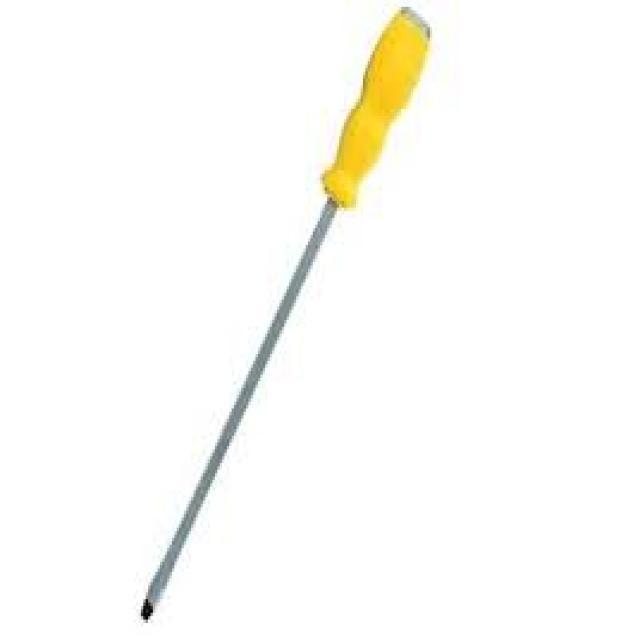screwdriver: (138, 3, 438, 623)
